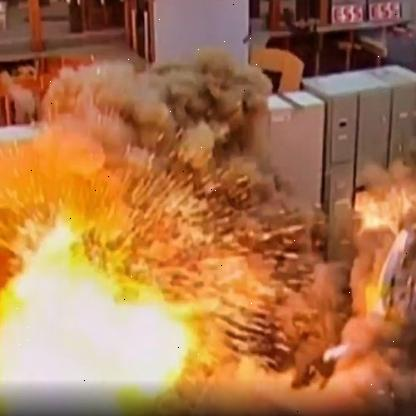fire: (0, 219, 197, 416)
smoke: (0, 45, 416, 416)
